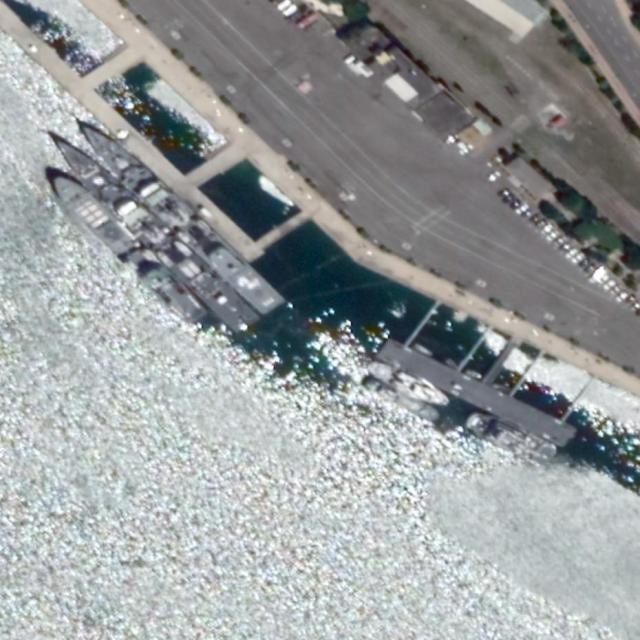Frigate: (38, 121, 261, 339), (70, 108, 289, 321)
Other Warship: (43, 169, 211, 332), (463, 405, 559, 469), (363, 354, 451, 412)
